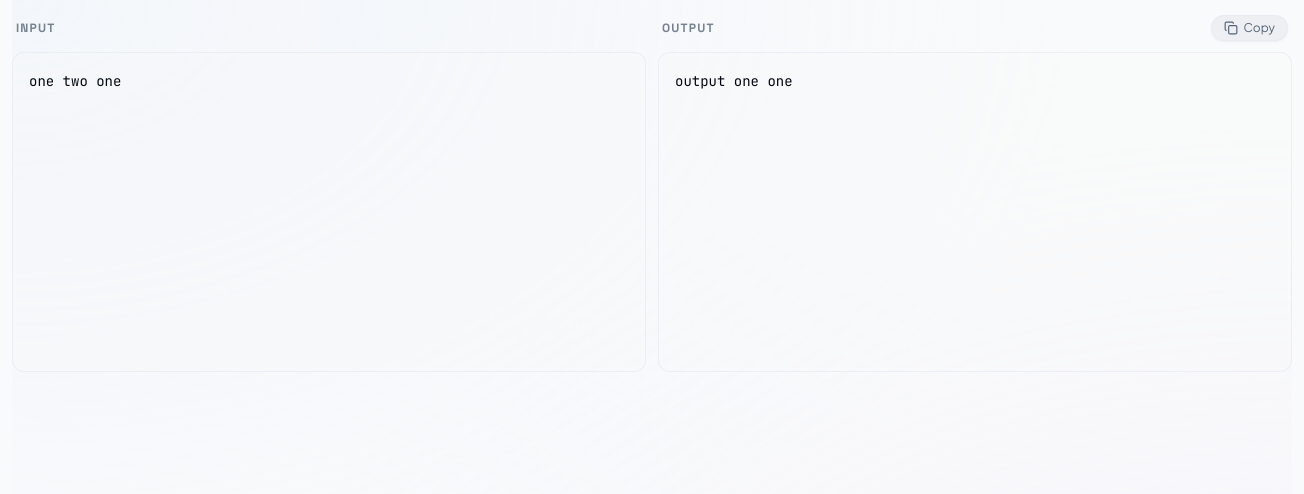
Test: ToolIoPanels find and replace › shows invalid regex errors and disables replacement
Press f
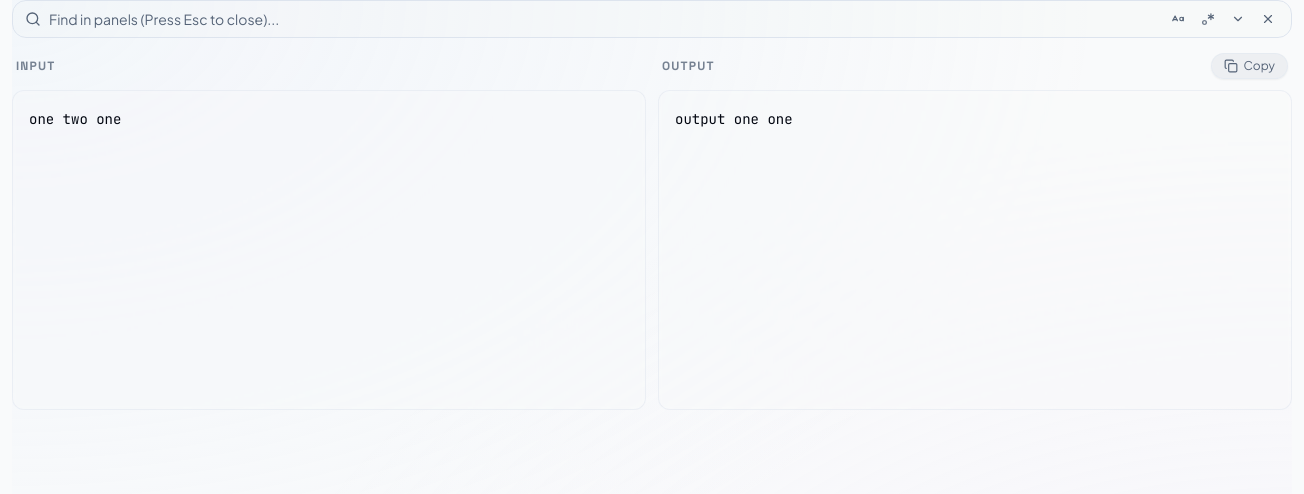
Click the button named "Toggle replace". click: {"x": 1238, "y": 19}
box: [1227,8,1249,30]
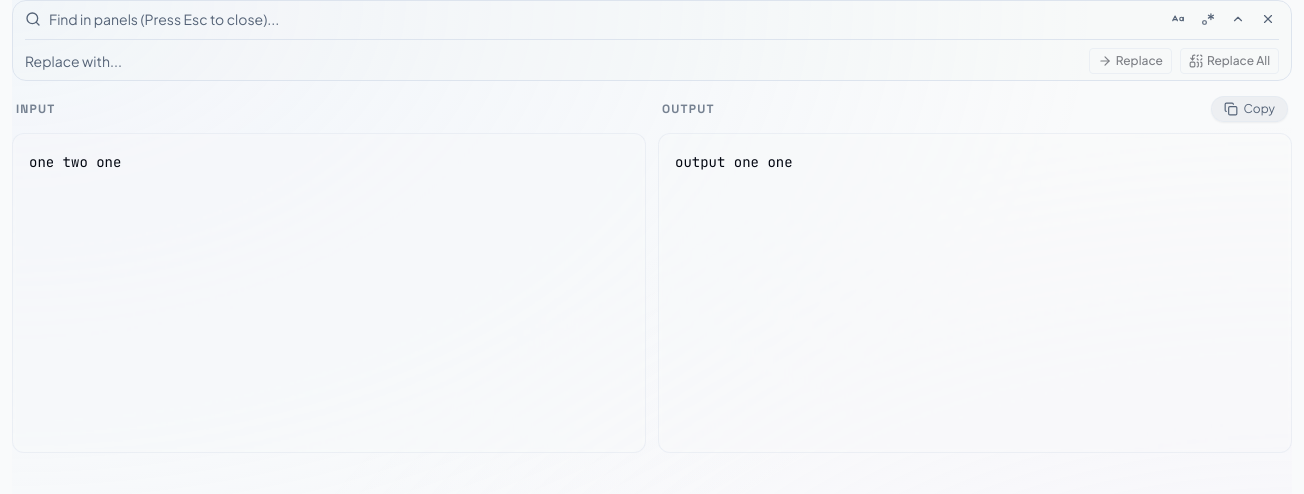
Click the button named "Use regular expression". click: {"x": 1208, "y": 19}
box: [1197,8,1219,30]
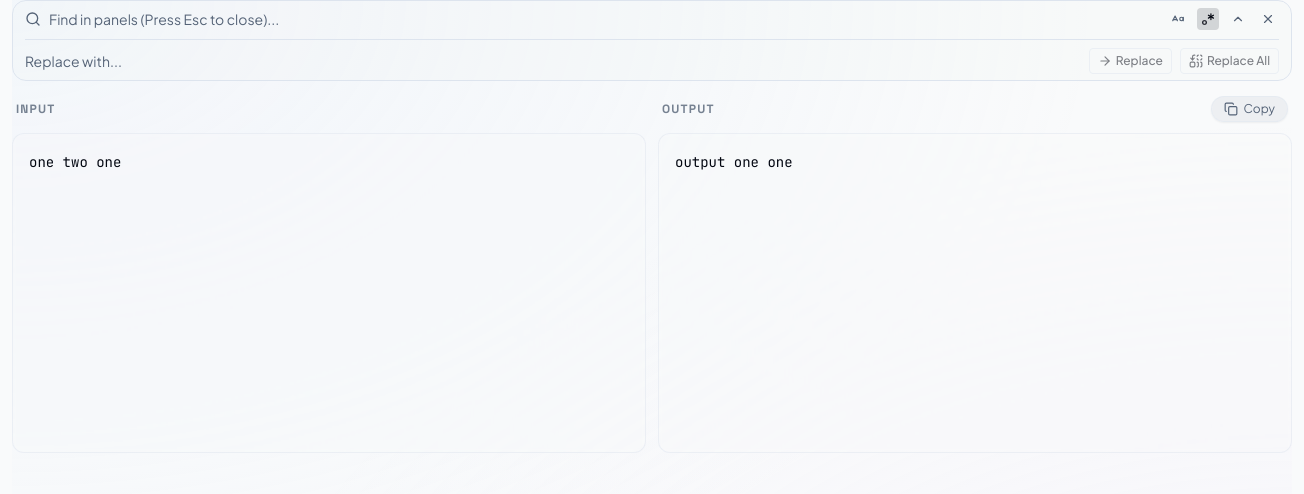
Type "(" into the field labelled "Find in panels". click: {"x": 604, "y": 19}
box: [49,7,1159,31]
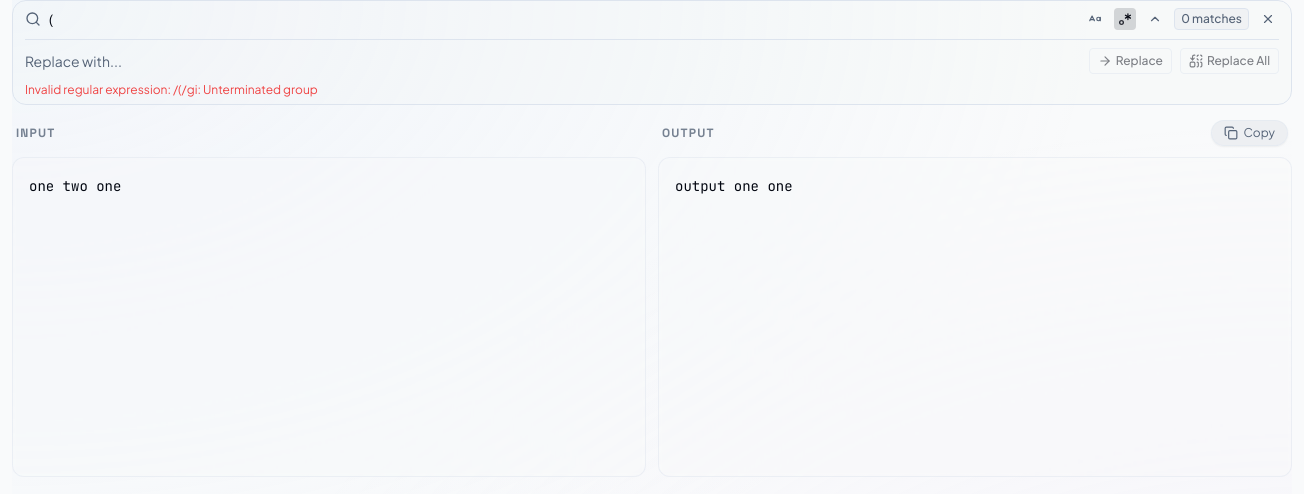
Expected: the button "Replace" is disabled, [1089,48,1172,74]
Expected: the button "Replace All" is disabled, [1180,48,1279,74]
Expected: the message shows "Invalid regular expression", [25,82,318,97]
